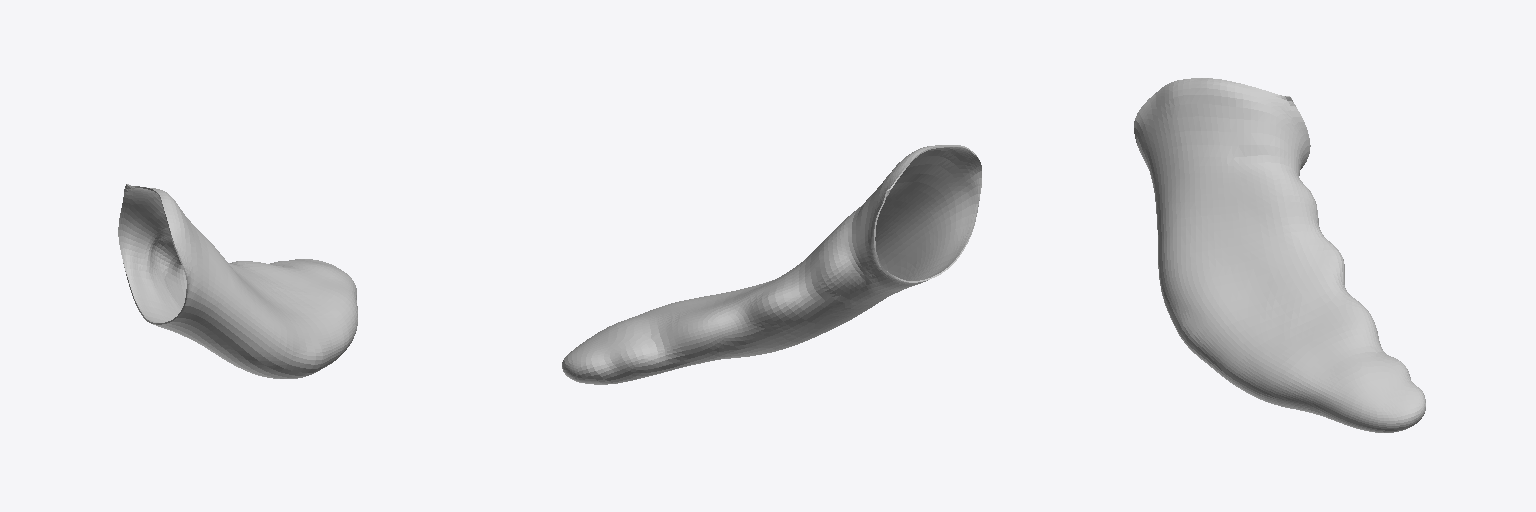
The model's file is left_fin.obj.
The picture shows the model from 3 angles: view 1: azimuth 30°, elevation 25°; view 2: azimuth 150°, elevation 25°; view 3: azimuth 270°, elevation 25°; orthographic projection.
Parts seen in each view (by area): view 1: whale; view 2: whale; view 3: whale.
Boxes of the visible parts, <box> form: whale: <box>118,184,357,378</box>; whale: <box>562,145,981,384</box>; whale: <box>1134,78,1425,432</box>.
Bounding box in the file's own units: 4.44 × 3.35 × 3.88.